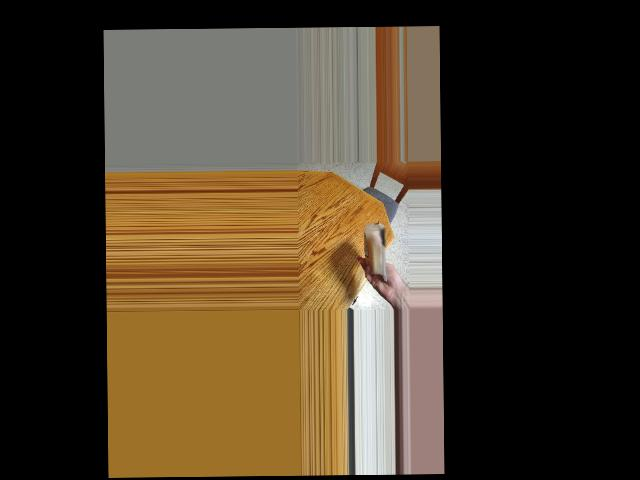cheese: (362, 226, 397, 278)
